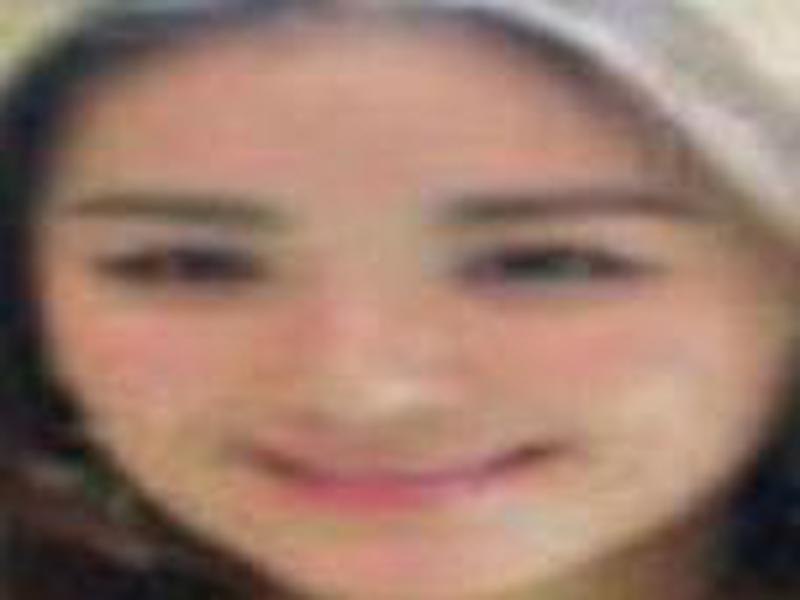without_mask: (25, 85, 761, 597)
